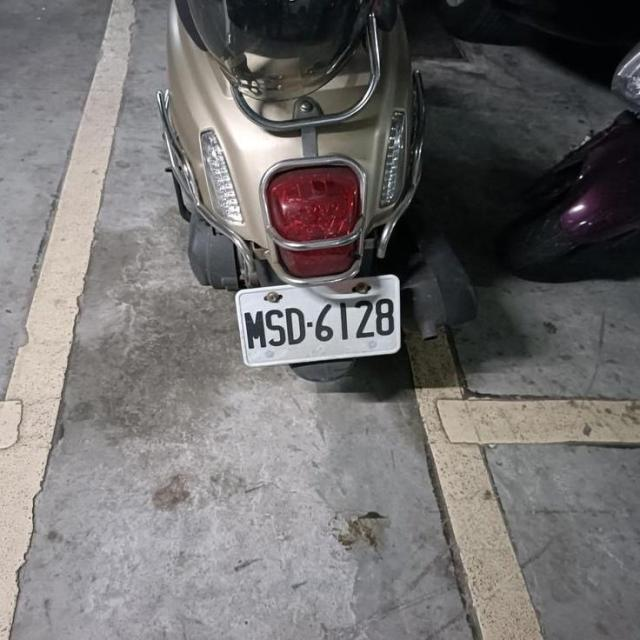W: (231, 271, 408, 372)
